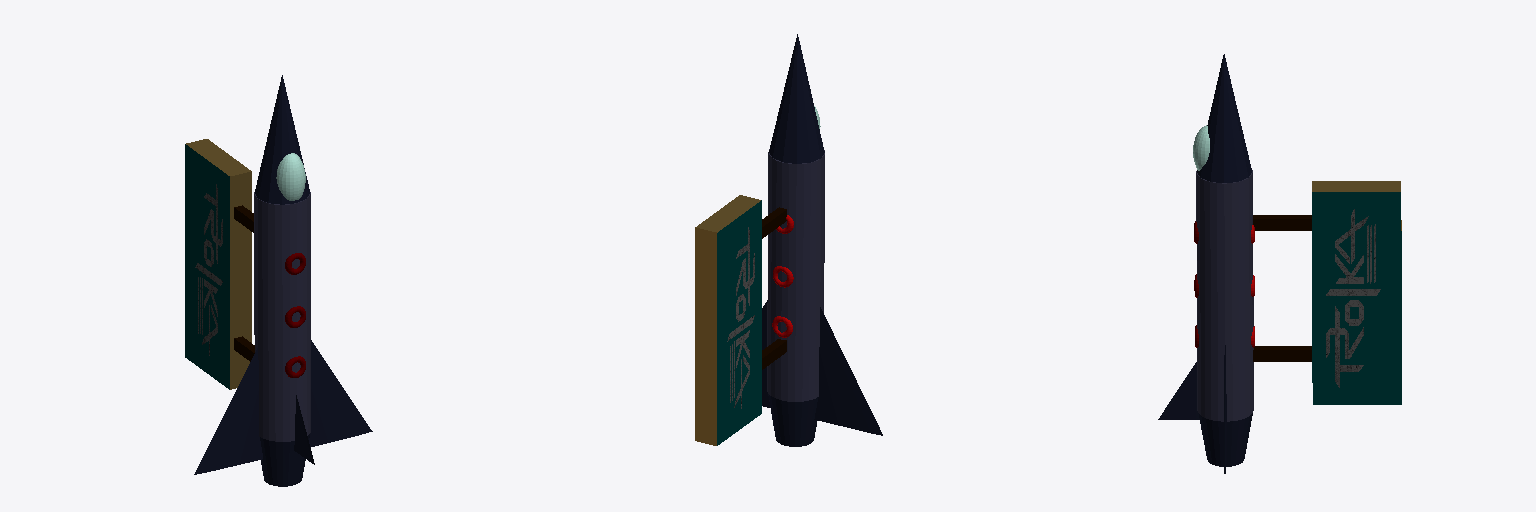
3 renders of one model, left to right at view 1: azimuth 30°, elevation 25°; view 2: azimuth 150°, elevation 25°; view 3: azimuth 270°, elevation 25°, orthographic.
Visible parts, largest first — view 1: Object.2, Object.13, Object.15, Object.12, Object.10, Object.14, Object.1; view 2: Object.2, Object.13, Object.15, Object.12, Object.10; view 3: Object.2, Object.13, Object.12, Object.10, Object.1, Object.3, Object.4, Object.14.
Boxes of the visible parts, x1=… form: Object.2: x1=185, y1=139, x2=251, y2=389; Object.13: x1=254, y1=192, x2=310, y2=441; Object.15: x1=194, y1=340, x2=372, y2=474; Object.12: x1=255, y1=75, x2=309, y2=204; Object.10: x1=260, y1=434, x2=309, y2=486; Object.14: x1=276, y1=153, x2=305, y2=200; Object.1: x1=294, y1=395, x2=314, y2=464; Object.2: x1=695, y1=195, x2=761, y2=445; Object.13: x1=767, y1=149, x2=824, y2=401; Object.15: x1=762, y1=300, x2=882, y2=435; Object.12: x1=769, y1=34, x2=824, y2=163; Object.10: x1=768, y1=394, x2=817, y2=446; Object.2: x1=1312, y1=181, x2=1401, y2=404; Object.13: x1=1196, y1=170, x2=1253, y2=421; Object.12: x1=1197, y1=54, x2=1251, y2=182; Object.10: x1=1198, y1=413, x2=1252, y2=466; Object.1: x1=1158, y1=362, x2=1199, y2=419; Object.3: x1=1253, y1=346, x2=1311, y2=361; Object.4: x1=1253, y1=215, x2=1311, y2=230; Object.14: x1=1193, y1=125, x2=1209, y2=170.
Size of the model in its own units: 40.6 by 88.49 by 48.14.
11 materials, 1 textured.